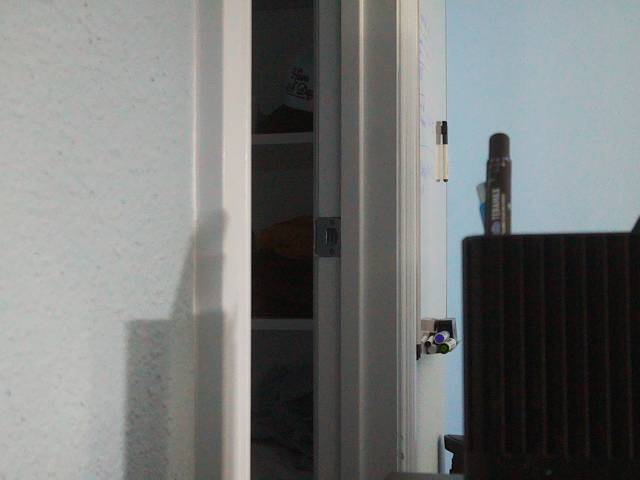crater: (187, 103, 402, 318), (200, 44, 402, 246), (224, 224, 402, 402), (182, 0, 360, 178), (234, 312, 401, 480), (420, 224, 575, 380), (249, 27, 364, 142), (234, 318, 319, 403), (249, 416, 313, 480), (358, 175, 420, 237)
